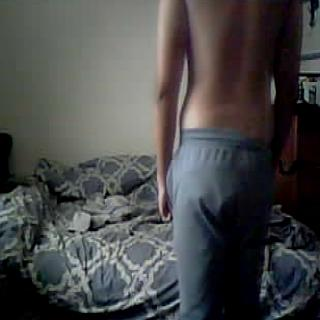Blue Sweatpants: (159, 132, 280, 320)
